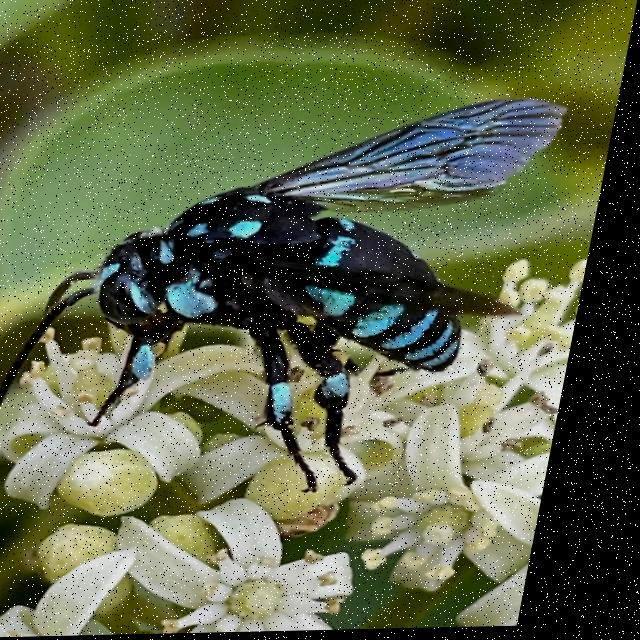Thyreus: (0, 90, 585, 502)
